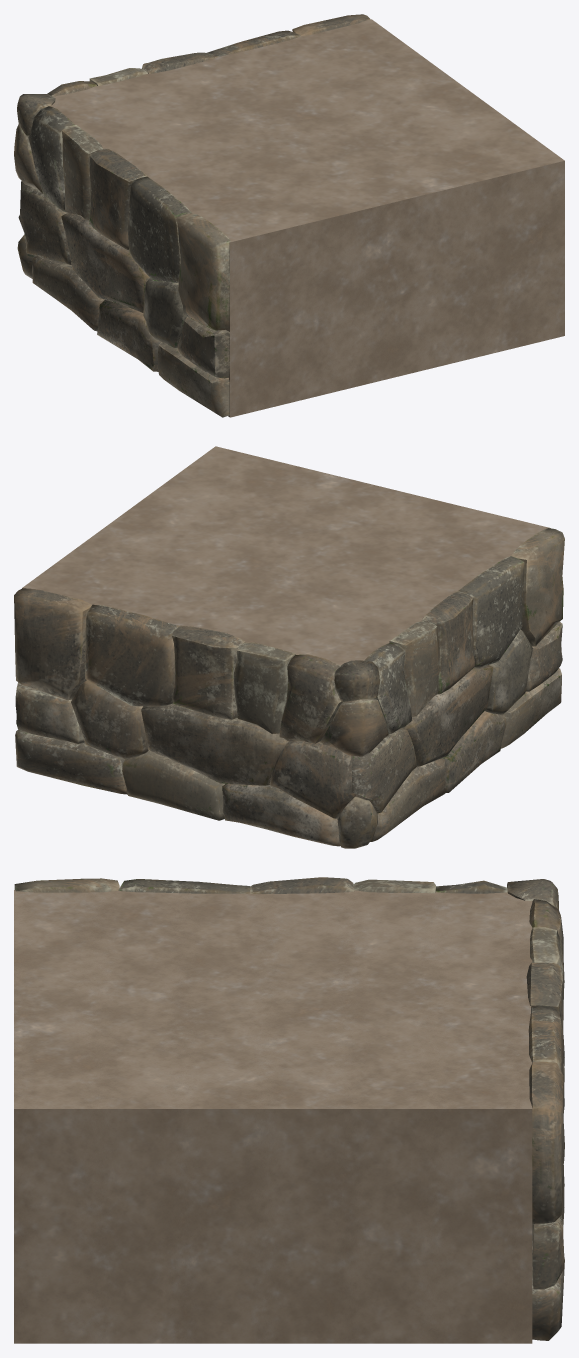
The model's file is SM_Gidan01b.fbx.
The picture shows the model from 3 angles, top to bottom: view 1: azimuth 30°, elevation 25°; view 2: azimuth 150°, elevation 25°; view 3: azimuth 270°, elevation 25°; orthographic projection. The views are drawn at different scales.
Visible parts, largest first — view 1: SM_Gidan01b; view 2: SM_Gidan01b; view 3: SM_Gidan01b.
Boxes of the visible parts, box(x1,y1,x2,y2) form: SM_Gidan01b: box(14, 14, 564, 417); SM_Gidan01b: box(14, 446, 564, 848); SM_Gidan01b: box(14, 877, 564, 1343).
Bounding box in the file's own units: 319 × 319 × 154.
Materials: 2 (2 with a texture image).
